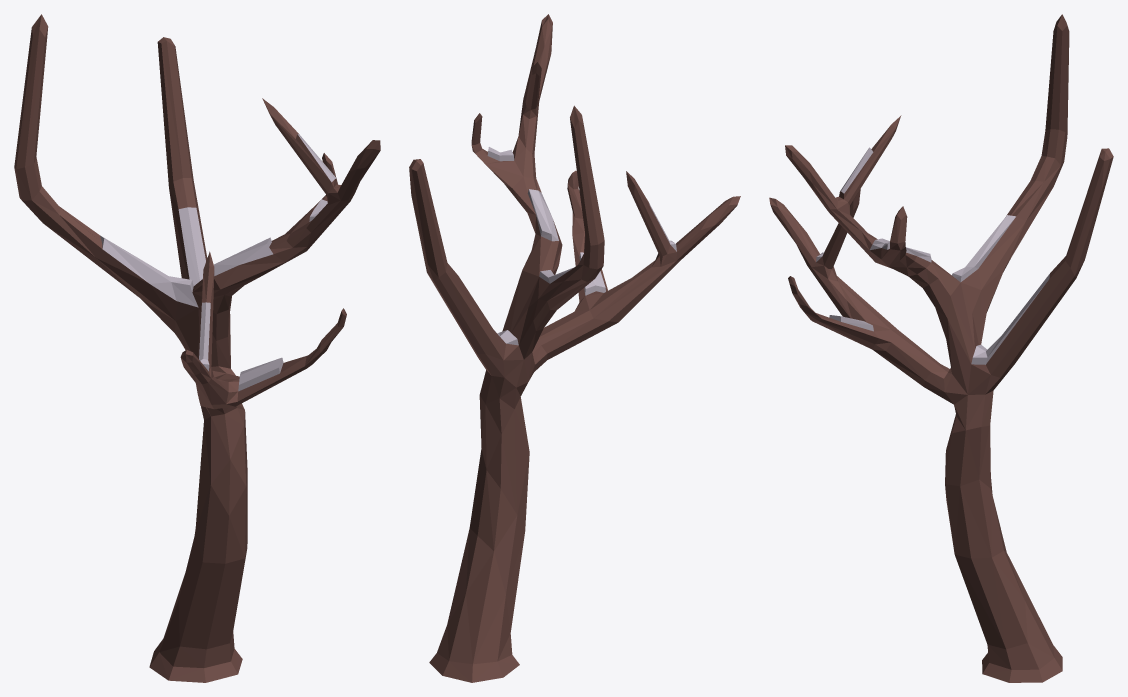
Rendered from CommonTree_Dead_Snow_5.lod1.glb.
3 renders of one model, left to right at view 1: azimuth 30°, elevation 25°; view 2: azimuth 150°, elevation 25°; view 3: azimuth 270°, elevation 25°, orthographic. The views are drawn at different scales.
Parts seen in each view (by area): view 1: CommonTree_Dead_Snow_5; view 2: CommonTree_Dead_Snow_5; view 3: CommonTree_Dead_Snow_5.
Boxes of the visible parts, x1,y1,x2,y2 form: CommonTree_Dead_Snow_5: [14, 14, 380, 682]; CommonTree_Dead_Snow_5: [409, 14, 740, 682]; CommonTree_Dead_Snow_5: [769, 14, 1113, 682].
Size of the model in its own units: 0.8461 by 2.3 by 1.2.
